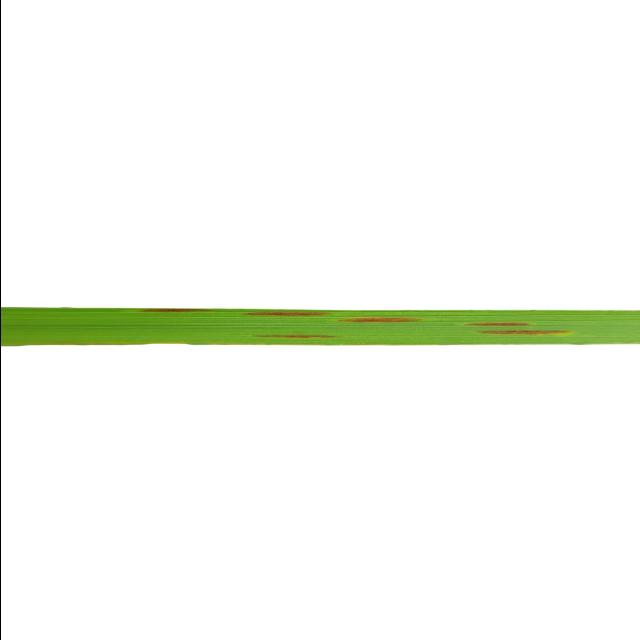Narrow brown: (0, 162, 640, 429)
